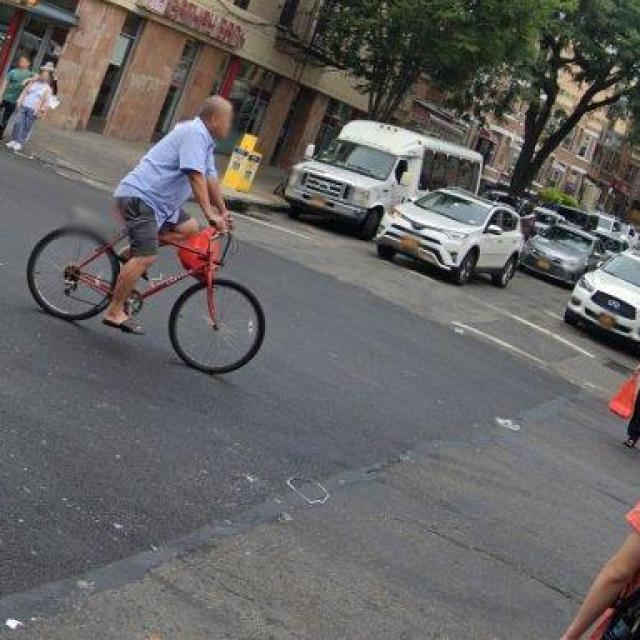bicycle: (131, 230, 266, 374), (28, 228, 128, 322)
